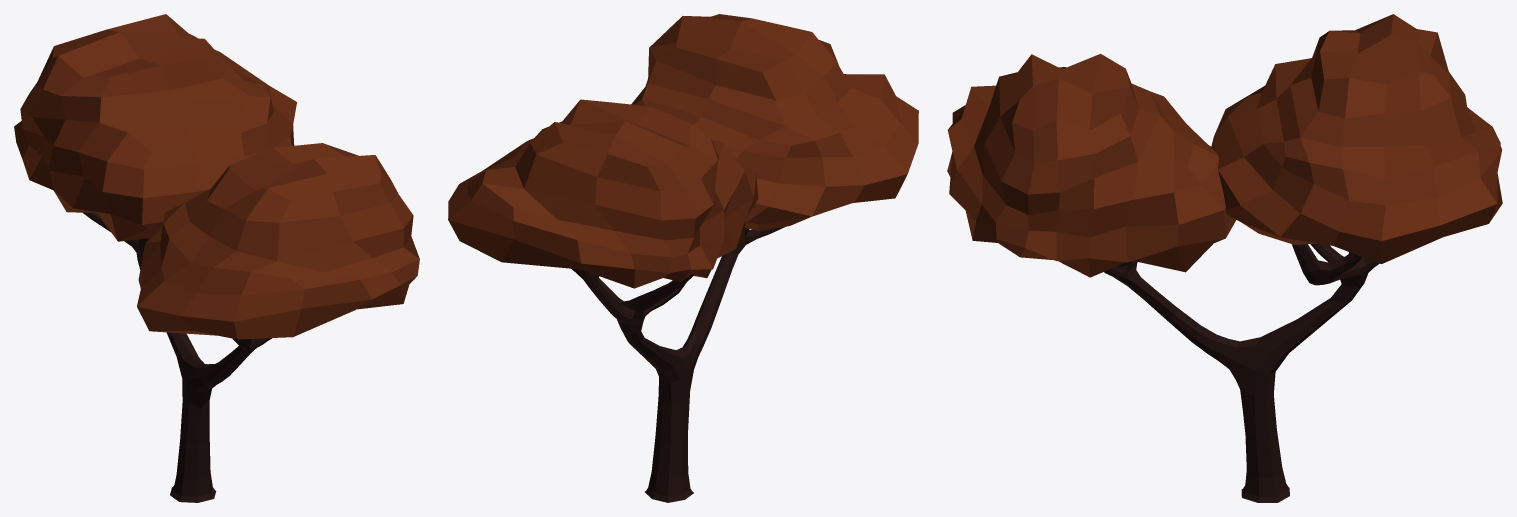
The model's file is CommonTree_Autumn_1.obj.
3 views of the same model, side by side, from view 1: azimuth 30°, elevation 25°; view 2: azimuth 150°, elevation 25°; view 3: azimuth 270°, elevation 25° (orthographic). The views are drawn at different scales.
Parts seen in each view (by area): view 1: CommonTree_Autumn_1_Cube.089; view 2: CommonTree_Autumn_1_Cube.089; view 3: CommonTree_Autumn_1_Cube.089.
Boxes of the visible parts, x1,y1,x2,y2 form: CommonTree_Autumn_1_Cube.089: (14,14,419,502); CommonTree_Autumn_1_Cube.089: (448,14,918,502); CommonTree_Autumn_1_Cube.089: (947,14,1502,502).
Size of the model in its own units: 1.89 by 2.48 by 2.77.
